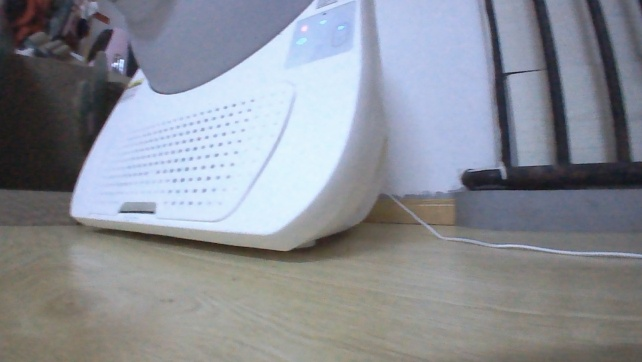wire: (381, 187, 641, 260)
